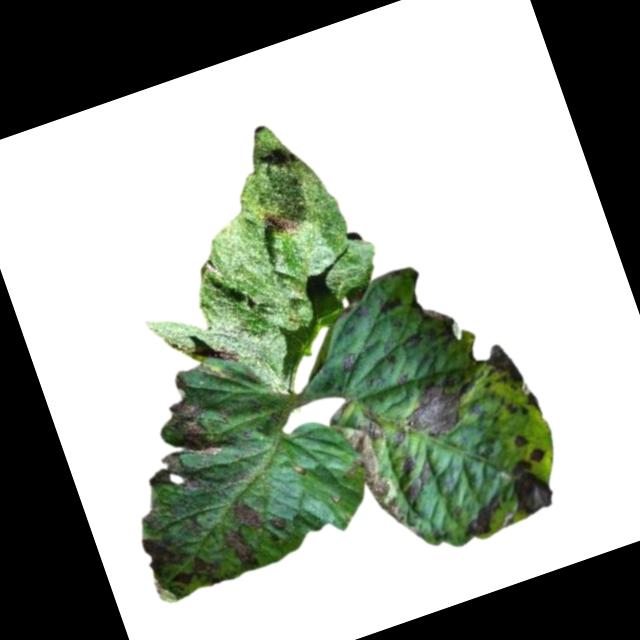Early_blight: (131, 499, 219, 607), (338, 406, 410, 534), (391, 366, 484, 446), (153, 365, 218, 451), (478, 337, 542, 424), (140, 442, 220, 511), (496, 446, 561, 519), (218, 522, 264, 575), (394, 456, 439, 506), (457, 494, 507, 539), (257, 202, 301, 245), (229, 492, 264, 535), (212, 340, 240, 367), (375, 292, 406, 316), (334, 349, 361, 375), (397, 454, 420, 478), (508, 428, 533, 450)
